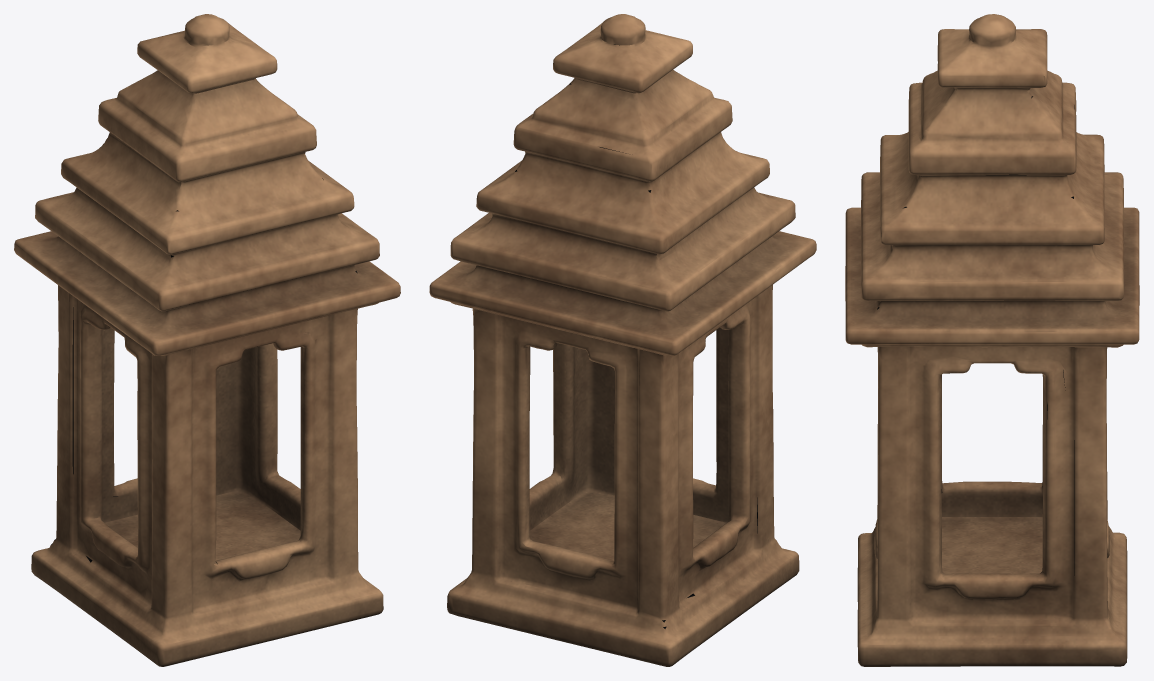
File: sandstone-lantern-v002.glb
3 views of the same model, side by side, from view 1: azimuth 30°, elevation 25°; view 2: azimuth 150°, elevation 25°; view 3: azimuth 270°, elevation 25° (orthographic). The views are drawn at different scales.
Visible parts, largest first — view 1: sandstone-lantern; view 2: sandstone-lantern; view 3: sandstone-lantern.
Part boxes in pixels (box(x1,y1,x2,y2)): sandstone-lantern: box(14, 14, 400, 666); sandstone-lantern: box(429, 14, 816, 666); sandstone-lantern: box(845, 14, 1139, 666).
Size of the model in its own units: 0.4481 by 1 by 0.4478.
Materials: 1 (1 with a texture image).
